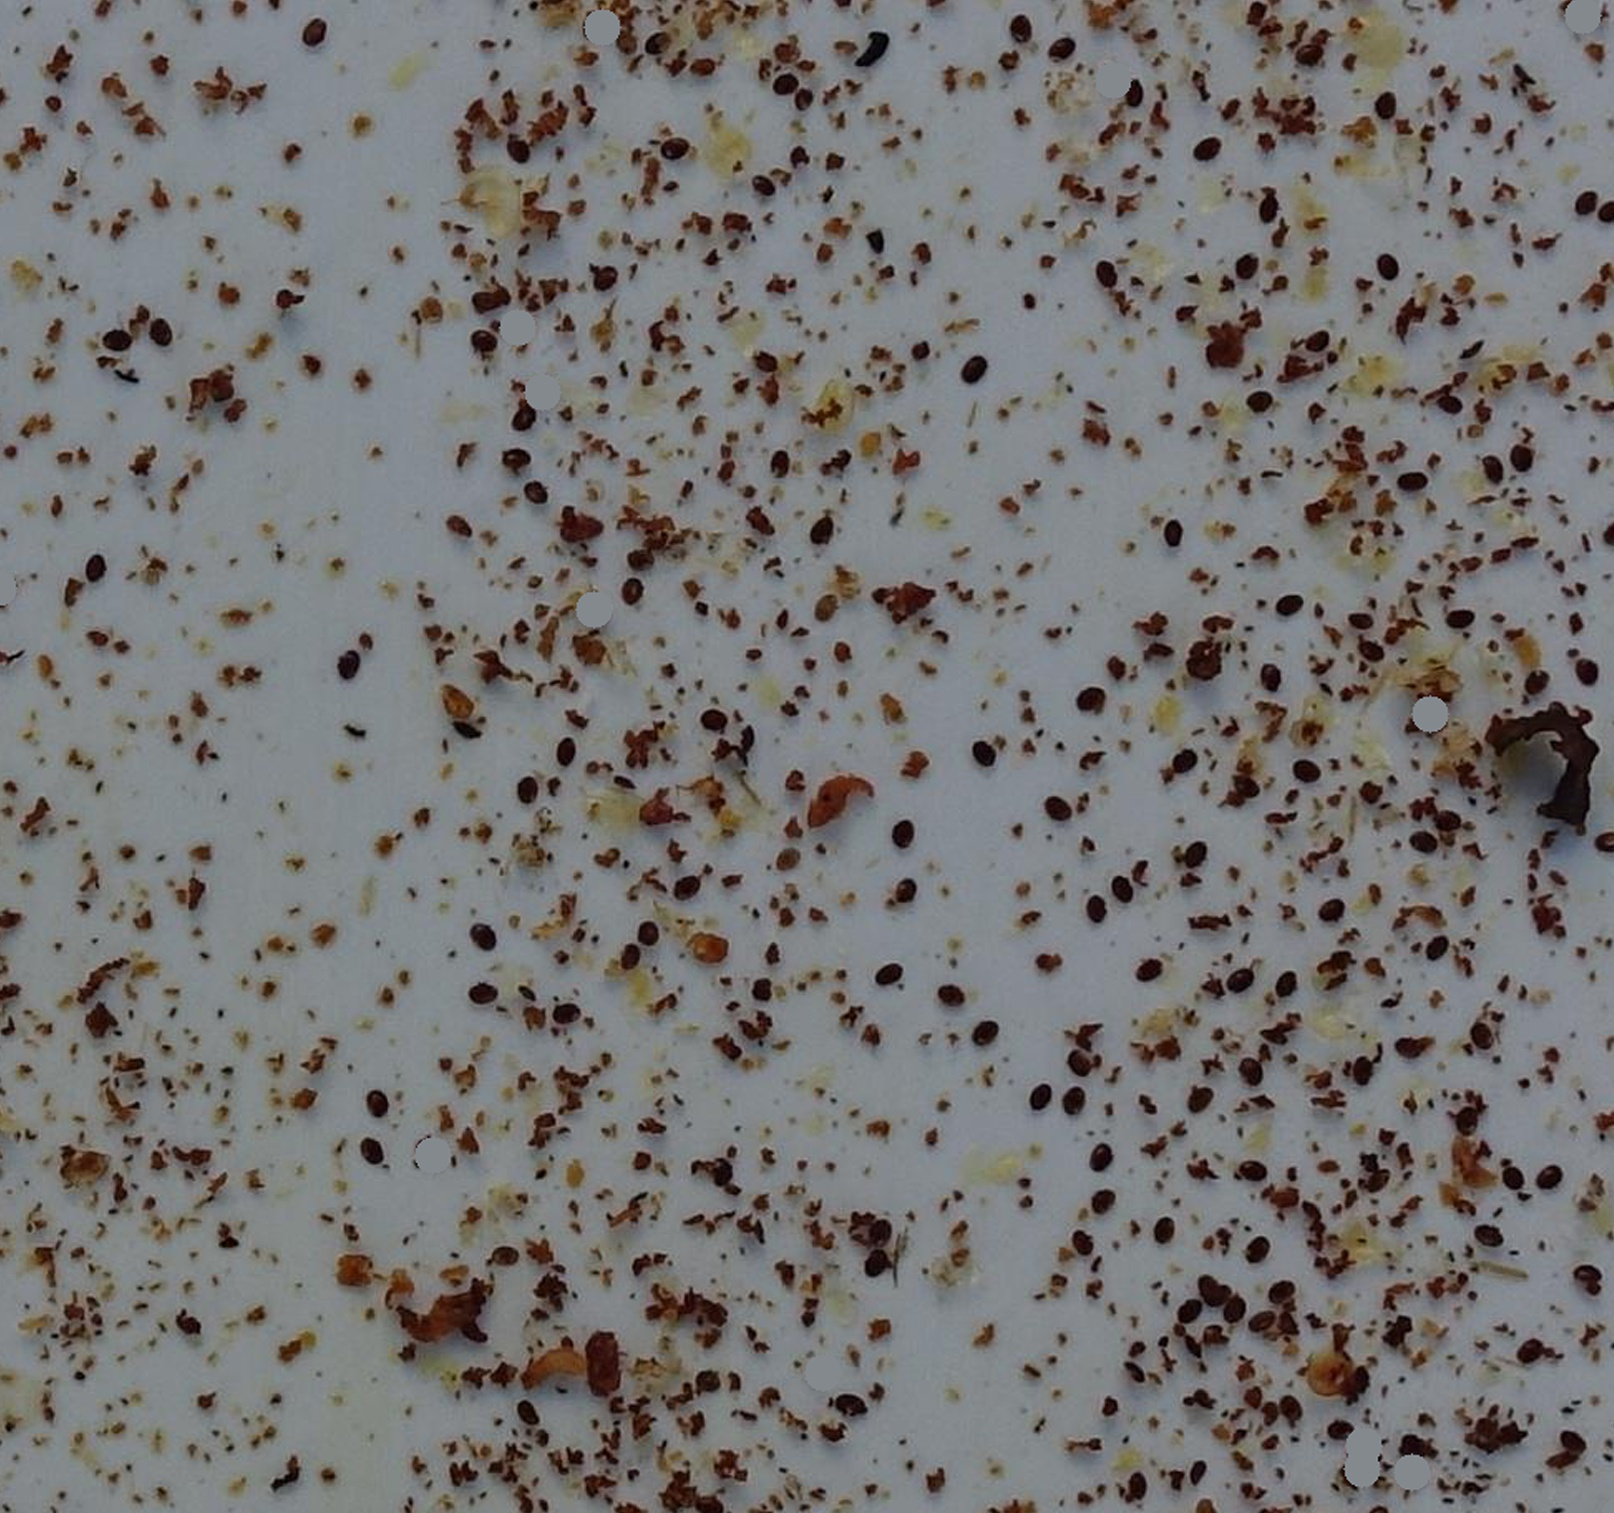Varroa: (1564, 179, 1608, 225), (503, 405, 535, 437), (1220, 1288, 1250, 1318), (1241, 1244, 1270, 1273), (1185, 1295, 1209, 1325), (1401, 1037, 1426, 1064), (1258, 1298, 1284, 1325), (838, 1398, 863, 1423), (867, 1240, 892, 1267), (1270, 1276, 1294, 1301), (779, 75, 803, 101), (1113, 877, 1138, 903), (1325, 1415, 1350, 1440), (707, 1160, 732, 1185), (1123, 1473, 1148, 1497), (365, 1138, 390, 1162), (1234, 775, 1258, 799), (1271, 1391, 1295, 1415), (1507, 449, 1532, 474), (1364, 1165, 1388, 1189), (479, 344, 503, 368), (633, 919, 656, 944), (1064, 1088, 1086, 1113), (1350, 1054, 1372, 1078), (1576, 657, 1598, 681), (1576, 1268, 1598, 1293), (495, 1241, 518, 1266), (1438, 395, 1460, 419), (1268, 968, 1291, 993), (1477, 458, 1502, 481), (1185, 843, 1207, 867), (815, 597, 838, 621), (471, 978, 493, 1003), (1236, 250, 1258, 274), (1563, 1433, 1586, 1458), (1091, 1187, 1113, 1212), (1233, 964, 1256, 988), (646, 33, 668, 57), (515, 431, 538, 455), (1479, 1224, 1502, 1247), (552, 1000, 574, 1022), (1052, 40, 1075, 63), (808, 512, 830, 535), (1027, 1082, 1049, 1105), (781, 848, 803, 870), (1138, 964, 1160, 987), (474, 286, 496, 309), (1189, 1273, 1212, 1295), (1523, 670, 1544, 694), (1352, 637, 1374, 661), (476, 320, 498, 344), (755, 353, 776, 377), (769, 447, 791, 471), (1170, 749, 1193, 771), (1189, 1094, 1210, 1116), (877, 963, 899, 985), (1079, 687, 1101, 710), (1095, 259, 1116, 282), (890, 877, 912, 900), (1540, 1163, 1561, 1186), (1307, 333, 1328, 355), (1503, 1167, 1524, 1190), (1519, 1337, 1540, 1359), (974, 1024, 995, 1047), (937, 983, 958, 1005), (1092, 1145, 1113, 1167), (1068, 1052, 1091, 1074), (624, 940, 646, 963), (1459, 1121, 1480, 1143), (862, 1266, 883, 1288), (812, 535, 833, 557), (1438, 811, 1458, 835), (1379, 253, 1401, 274), (694, 1369, 715, 1391), (892, 823, 913, 845), (1197, 139, 1219, 161), (1261, 668, 1283, 690), (1448, 1103, 1469, 1125), (626, 583, 647, 604), (1352, 614, 1374, 636), (1377, 92, 1396, 115), (1047, 798, 1067, 820), (506, 141, 526, 164), (668, 141, 688, 164), (1321, 896, 1341, 919), (518, 1401, 538, 1423), (557, 735, 577, 758), (1241, 1162, 1261, 1185), (1121, 78, 1140, 101), (85, 557, 107, 577), (338, 654, 358, 675), (1401, 472, 1421, 493), (1297, 764, 1317, 785), (1278, 592, 1298, 613), (518, 782, 538, 803), (1470, 1030, 1492, 1049), (976, 739, 995, 761), (749, 175, 769, 196), (594, 267, 614, 289), (306, 27, 326, 48), (1413, 832, 1433, 853), (1257, 195, 1277, 216), (1074, 1231, 1094, 1253), (1295, 36, 1315, 57), (151, 324, 171, 346), (683, 877, 702, 899), (1428, 937, 1448, 958), (1449, 609, 1469, 629), (370, 1094, 390, 1113), (525, 482, 545, 502), (1158, 1221, 1177, 1241), (1593, 198, 1613, 218), (1163, 523, 1182, 545), (1085, 897, 1103, 919), (704, 714, 722, 734), (1011, 16, 1030, 36), (1243, 1062, 1261, 1082), (1251, 392, 1270, 412), (472, 931, 491, 951), (958, 355, 977, 375), (700, 697, 718, 715), (112, 330, 129, 347)
